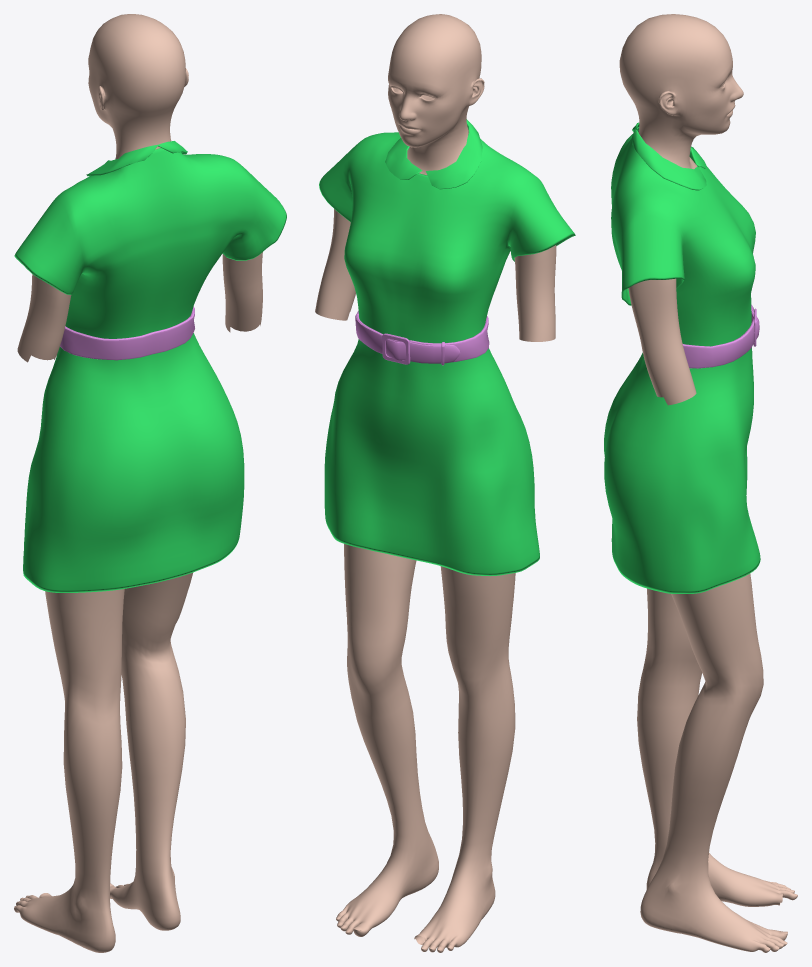
Rendered from BESTIDO1_DISEÑO.fbx.
3 renders of one model, left to right at view 1: azimuth 30°, elevation 25°; view 2: azimuth 150°, elevation 25°; view 3: azimuth 270°, elevation 25°, orthographic. The views are drawn at different scales.
Parts seen in each view (by area): view 1: Bestido_multi, Manequin 1, Manequin 1.002, Cinturon, Parte_Bestido; view 2: Bestido_multi, Manequin 1, Manequin 1.002, Parte_Bestido, Cinturon, Cinturon.001; view 3: Bestido_multi, Manequin 1, Manequin 1.002, Parte_Bestido, Cinturon.
Part boxes in pixels (box(x1,y1,x2,y2)): Bestido_multi: box(14, 148, 286, 592); Manequin 1: box(14, 14, 193, 952); Manequin 1.002: box(17, 252, 262, 362); Cinturon: box(60, 306, 194, 360); Parte_Bestido: box(86, 141, 187, 176); Bestido_multi: box(319, 125, 575, 575); Manequin 1: box(336, 14, 515, 952); Manequin 1.002: box(315, 209, 556, 341); Parte_Bestido: box(385, 119, 482, 189); Cinturon: box(355, 310, 489, 362); Cinturon.001: box(386, 339, 460, 363); Bestido_multi: box(604, 127, 760, 593); Manequin 1: box(619, 14, 797, 952); Manequin 1.002: box(628, 278, 696, 405); Parte_Bestido: box(632, 122, 706, 190); Cinturon: box(682, 305, 757, 368).
Size of the model in its own units: 58.85 by 202 by 38.86.
